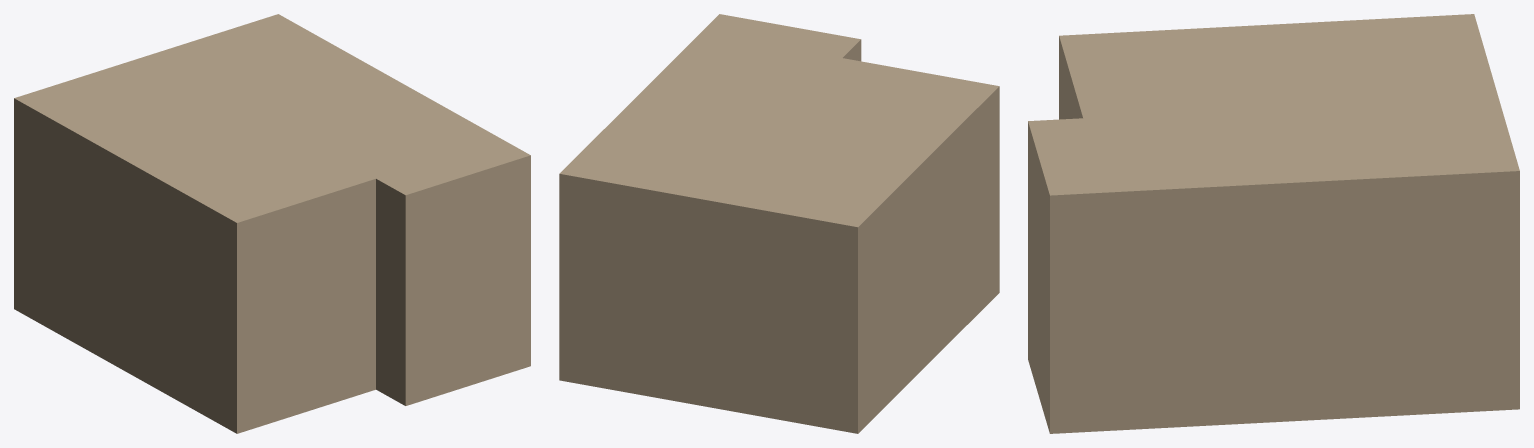
Rendered from bld_109053865.dae.
3 views of the same model, side by side, from view 1: azimuth 30°, elevation 25°; view 2: azimuth 150°, elevation 25°; view 3: azimuth 270°, elevation 25° (orthographic). The views are drawn at different scales.
Visible parts, largest first — view 1: bld_109053865; view 2: bld_109053865; view 3: bld_109053865.
Part boxes in pixels (x1,y1,x2,y2): bld_109053865: (14,14,530,433); bld_109053865: (559,14,999,433); bld_109053865: (1028,14,1519,433).
Bounding box in the file's own units: 13.06 × 14.96 × 8.
